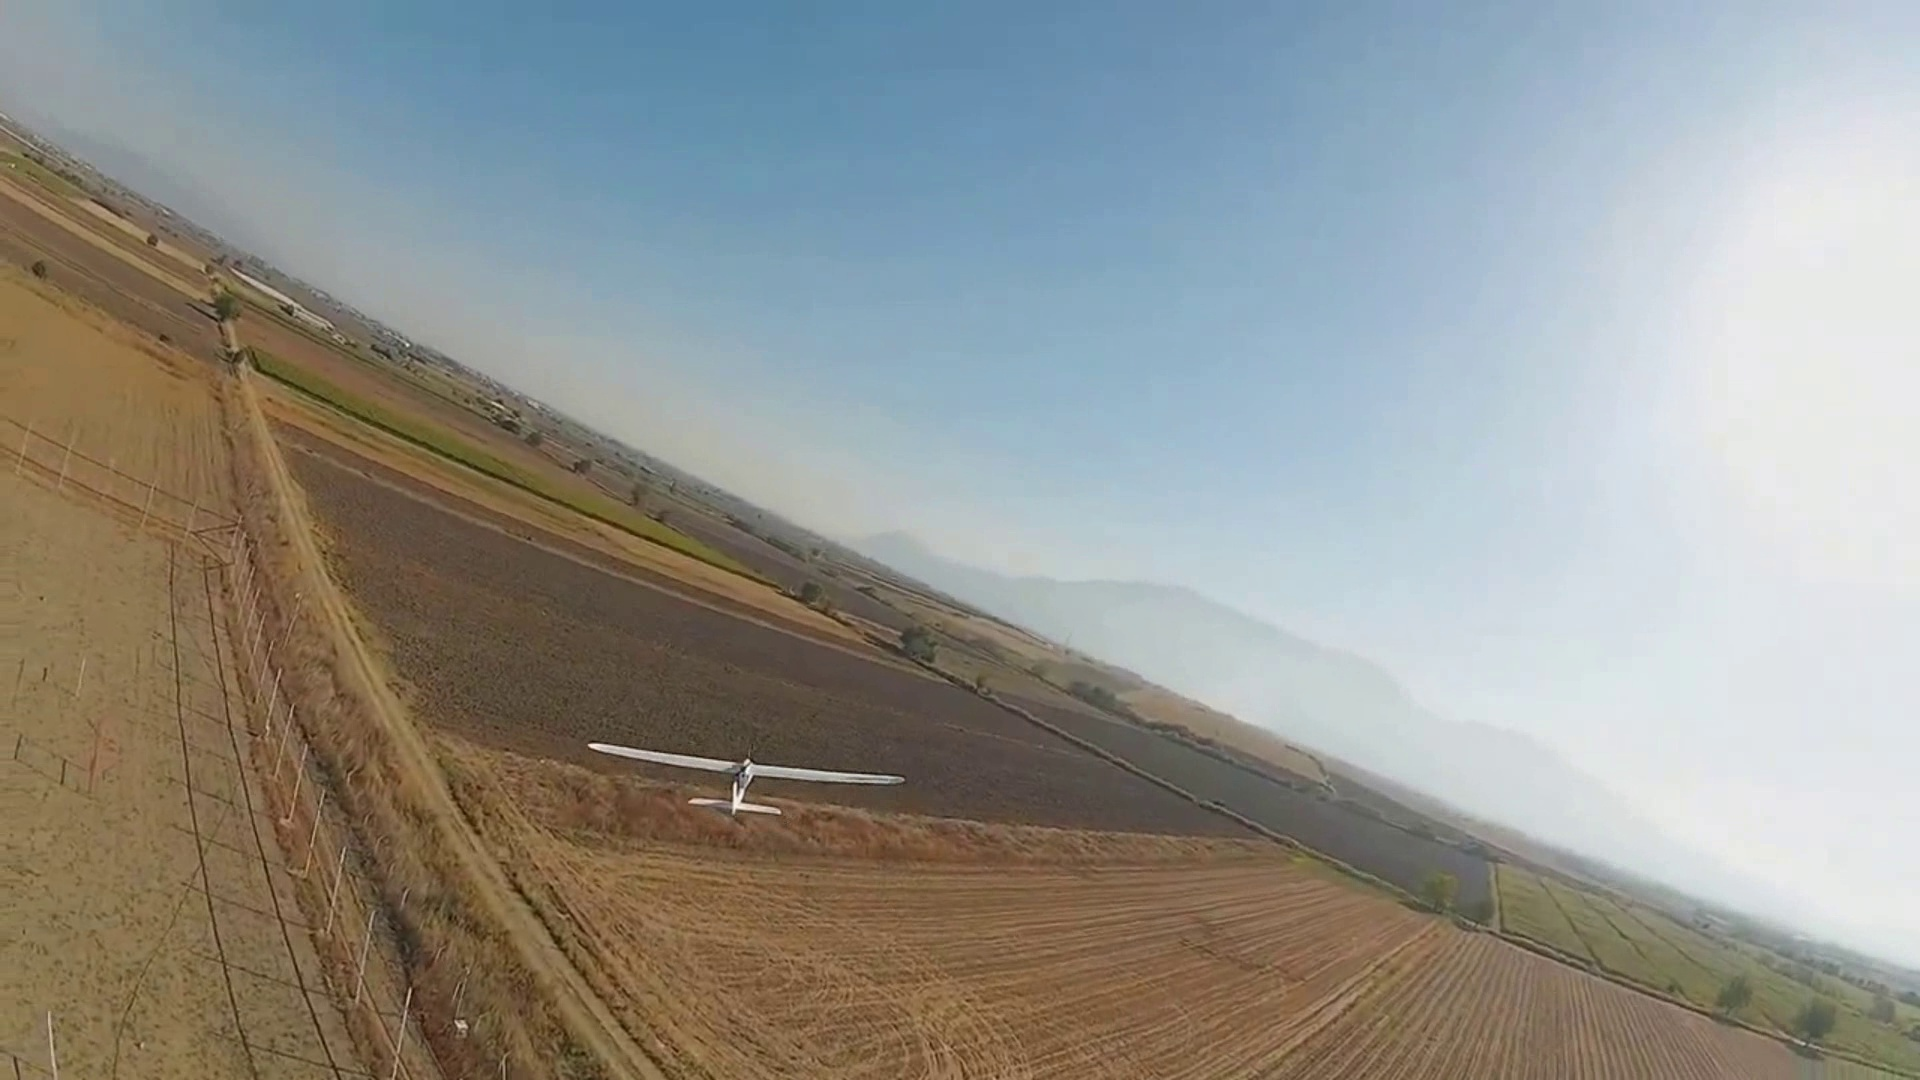airplane: (17, 187, 1919, 1038)
